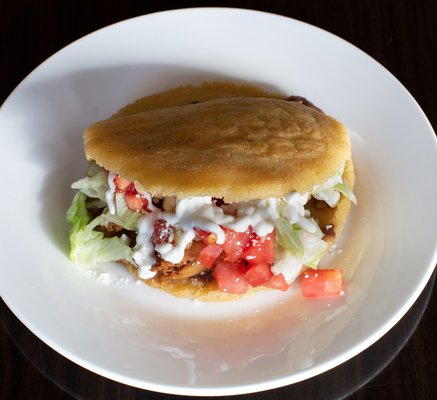soup: (65, 79, 373, 301)
